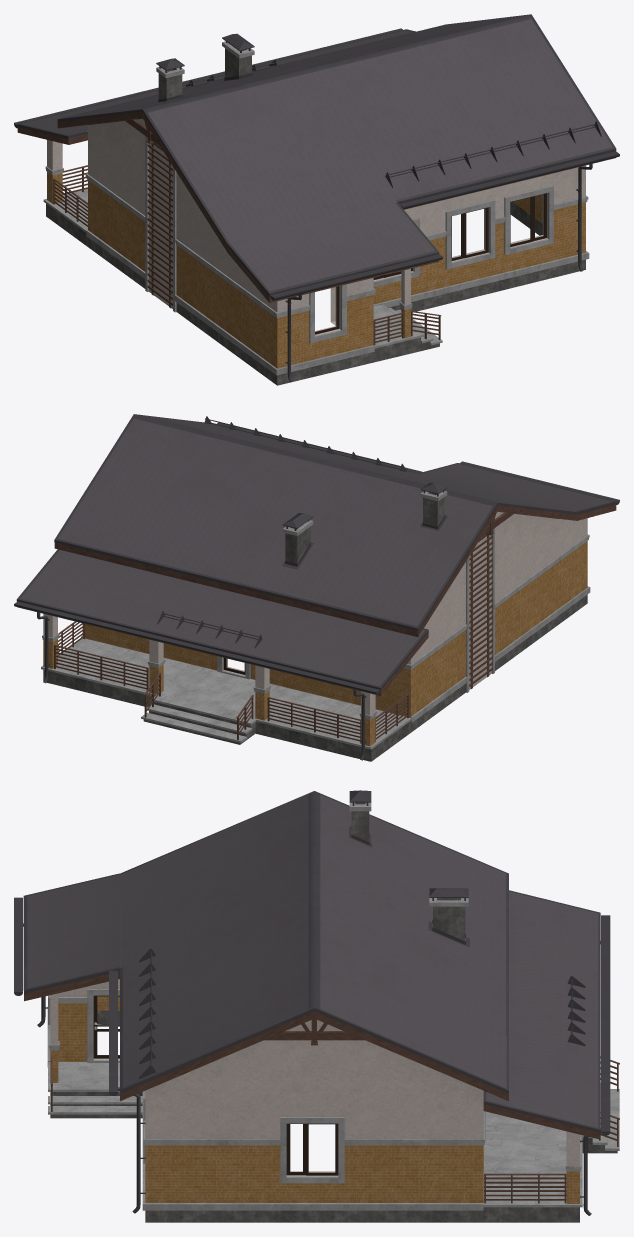
Rendered from cottage-no-floor.obj.
3 views of the same model, one above another, from view 1: azimuth 30°, elevation 25°; view 2: azimuth 150°, elevation 25°; view 3: azimuth 270°, elevation 25° (orthographic). The views are drawn at different scales.
Parts seen in each view (by area): view 1: Cottage_Free; view 2: Cottage_Free; view 3: Cottage_Free.
Part boxes in pixels (box(x1,y1,x2,y2)): Cottage_Free: box(14, 14, 619, 385); Cottage_Free: box(14, 414, 619, 761); Cottage_Free: box(14, 790, 619, 1222).
Size of the model in its own units: 12.44 by 6.75 by 14.65.
1 material, 1 textured.
